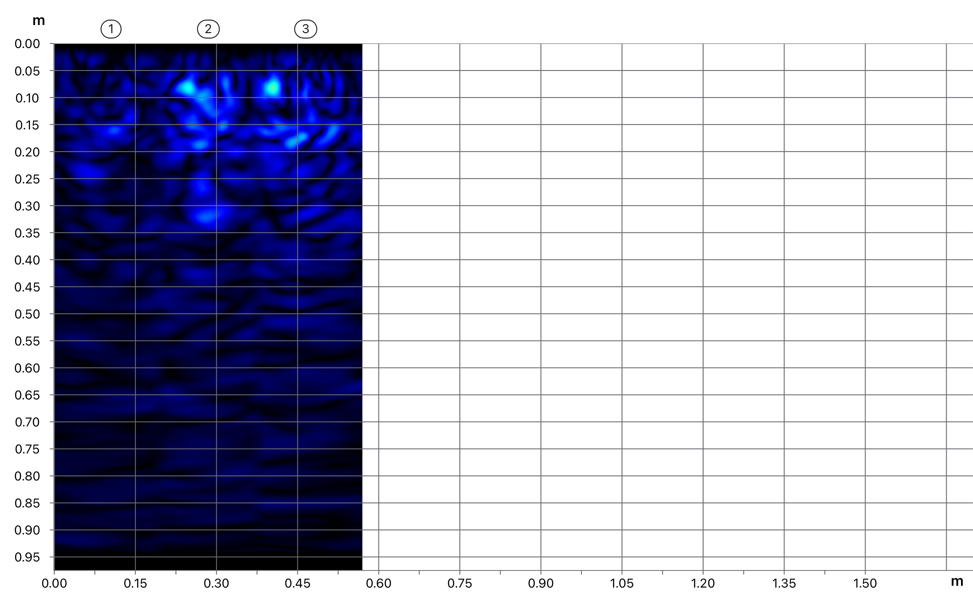crop: (2, 3, 362, 331)
